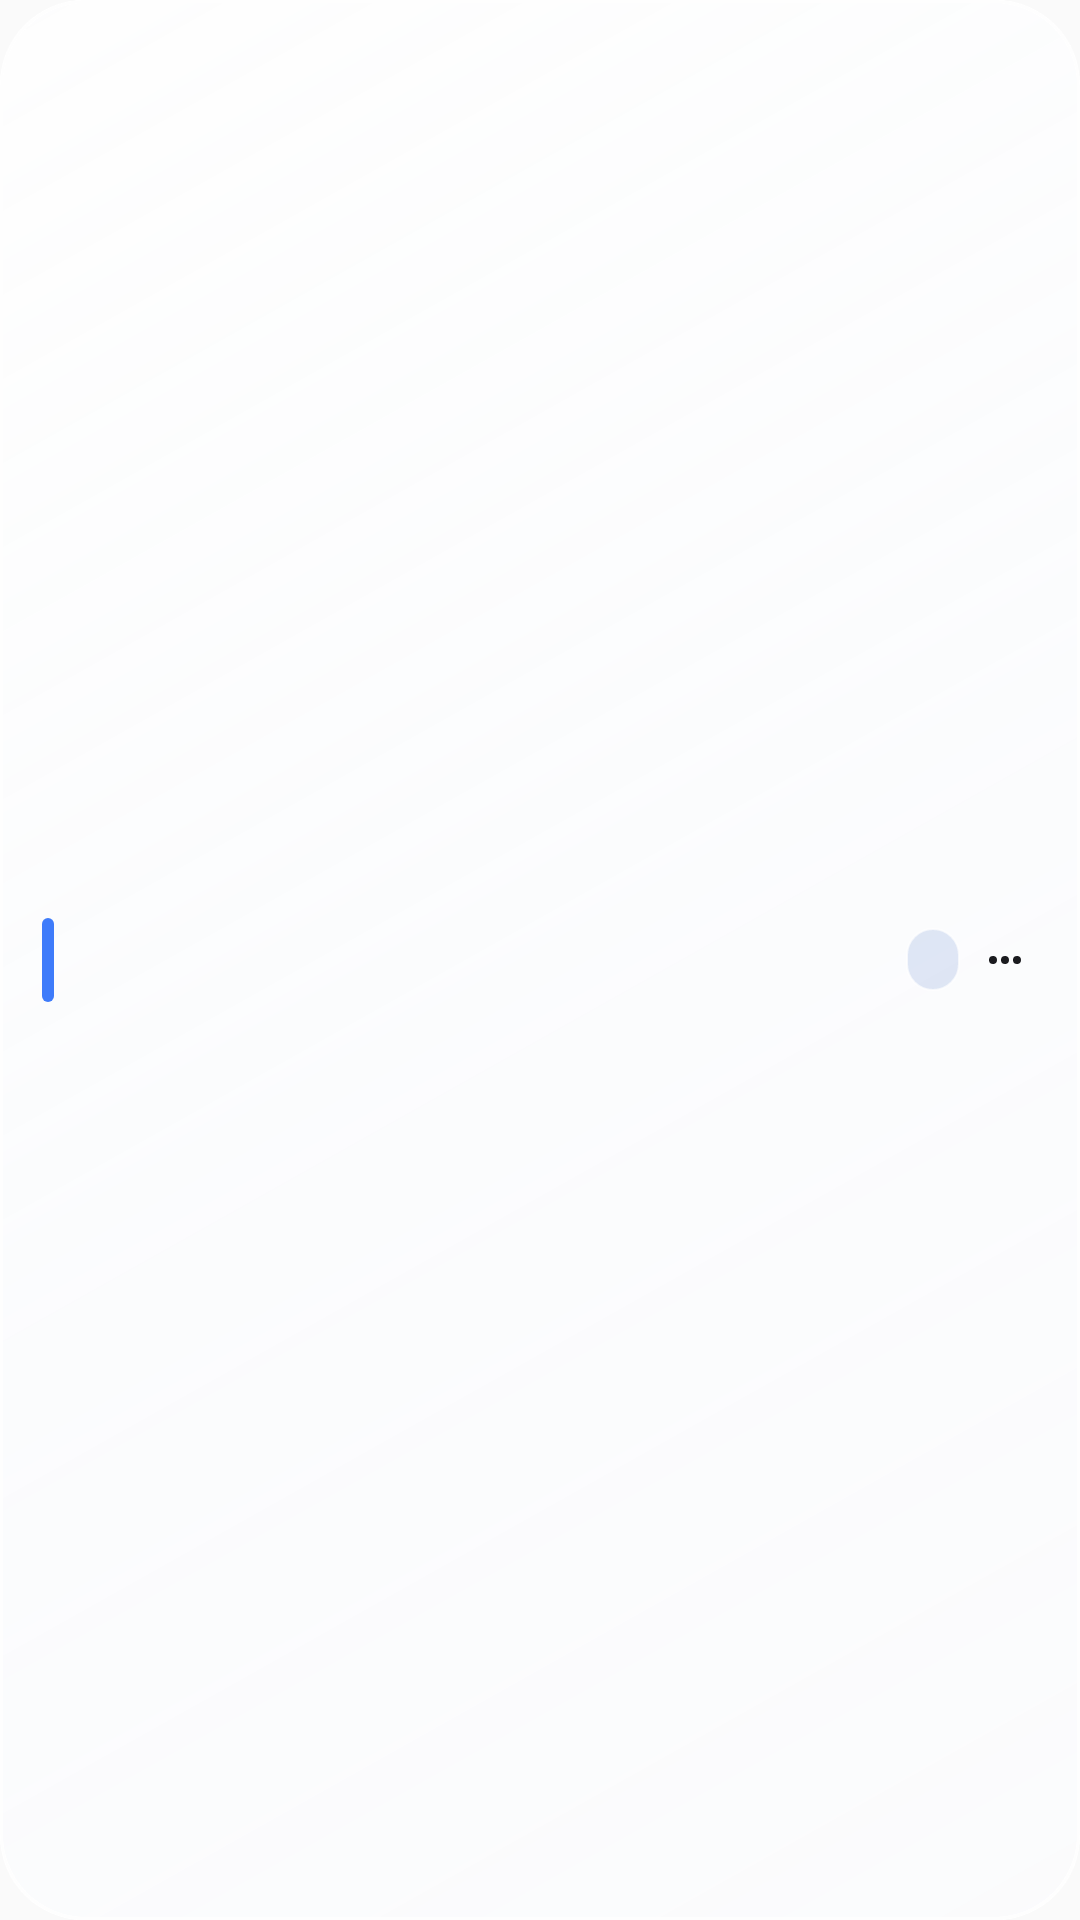

Point at icon controls on the screen. Image size 1080 x 1920, points as point (x, y).
组件设置: point (1005, 960)
